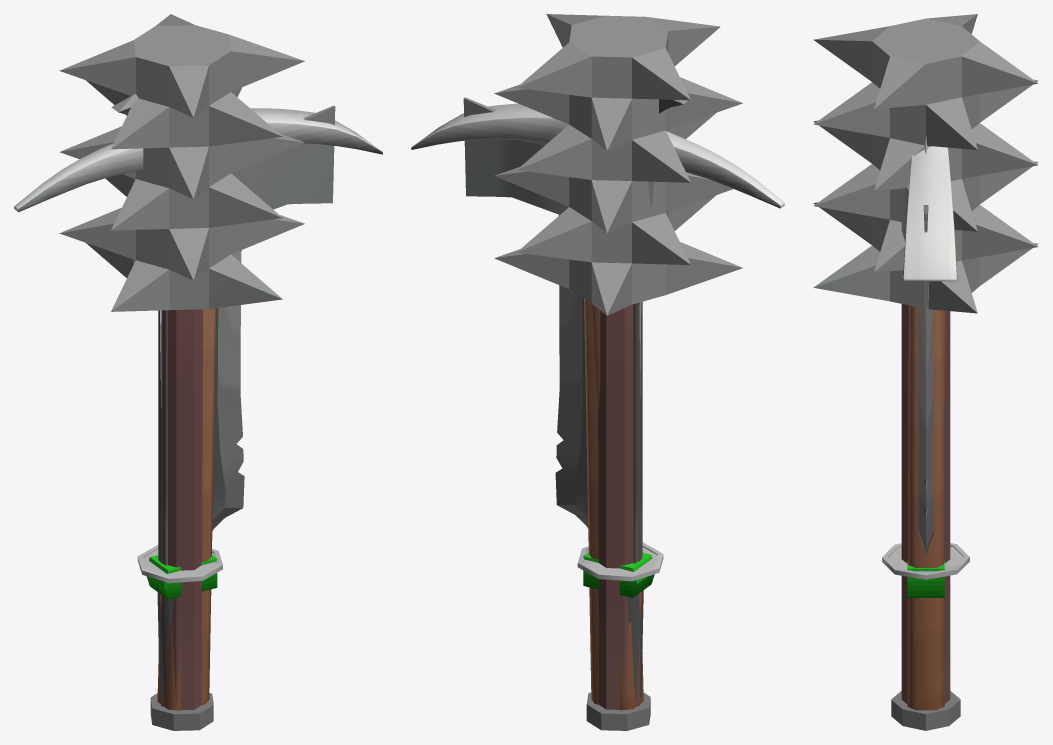
File: Weapons.fbx
The picture shows the model from 3 angles, left to right: view 1: azimuth 30°, elevation 25°; view 2: azimuth 150°, elevation 25°; view 3: azimuth 270°, elevation 25°; orthographic projection.
Visible parts, largest first — view 1: Weapon_Mace, Weapon_Axe, Weapon_Big_Sword, Weapon_Pickaxe, Weapon_Katana; view 2: Weapon_Mace, Weapon_Big_Sword, Weapon_Axe, Weapon_Pickaxe, Weapon_Katana; view 3: Weapon_Mace, Weapon_Axe, Weapon_Pickaxe, Weapon_Big_Sword, Weapon_Katana.
Part boxes in pixels (left/top/right/bottom): Weapon_Mace: left=59, top=14, right=304, bottom=730; Weapon_Axe: left=133, top=105, right=335, bottom=710; Weapon_Big_Sword: left=111, top=94, right=244, bottom=620; Weapon_Pickaxe: left=14, top=108, right=382, bottom=212; Weapon_Katana: left=137, top=310, right=222, bottom=700; Weapon_Mace: left=494, top=14, right=742, bottom=730; Weapon_Big_Sword: left=555, top=99, right=688, bottom=618; Weapon_Axe: left=463, top=97, right=653, bottom=710; Weapon_Pickaxe: left=411, top=103, right=784, bottom=413; Weapon_Katana: left=577, top=302, right=663, bottom=699; Weapon_Mace: left=813, top=14, right=1038, bottom=730; Weapon_Axe: left=901, top=184, right=944, bottom=710; Weapon_Pickaxe: left=903, top=146, right=957, bottom=415; Weapon_Big_Sword: left=907, top=135, right=944, bottom=597; Weapon_Katana: left=882, top=543, right=969, bottom=579.
Size of the model in its own units: 3.7 by 6.76 by 2.04.
